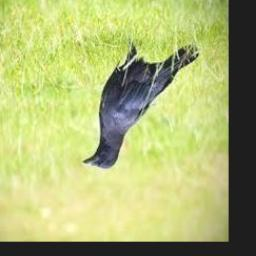Crow: (82, 33, 199, 169)
